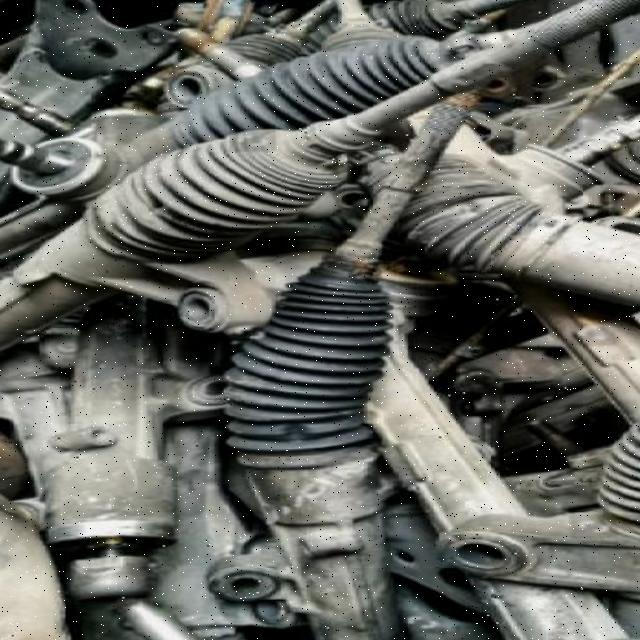shock absorber: (1, 79, 457, 351), (219, 187, 415, 636), (121, 35, 485, 168)
